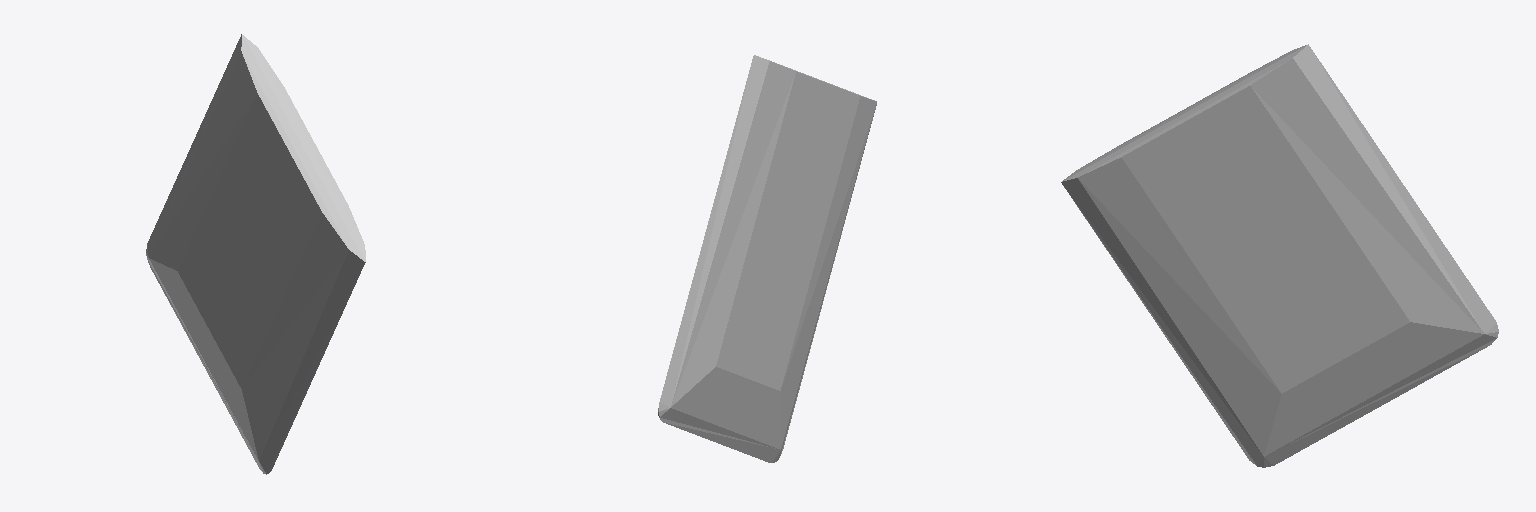
File: keel (1).obj
The picture shows the model from 3 angles: view 1: azimuth 30°, elevation 25°; view 2: azimuth 150°, elevation 25°; view 3: azimuth 270°, elevation 25°; orthographic projection.
Visible parts, largest first — view 1: Plane; view 2: Plane; view 3: Plane.
Part boxes in pixels (bbox=[...]): Plane: bbox=[146, 34, 365, 474]; Plane: bbox=[658, 55, 876, 462]; Plane: bbox=[1061, 44, 1498, 467].
Bounding box in the file's own units: 0.1196 × 1.82 × 1.71.